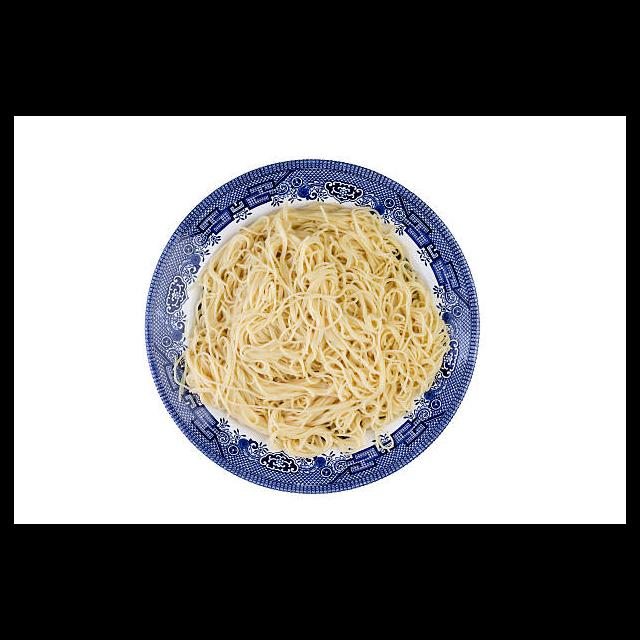noodles: (173, 198, 453, 457)
